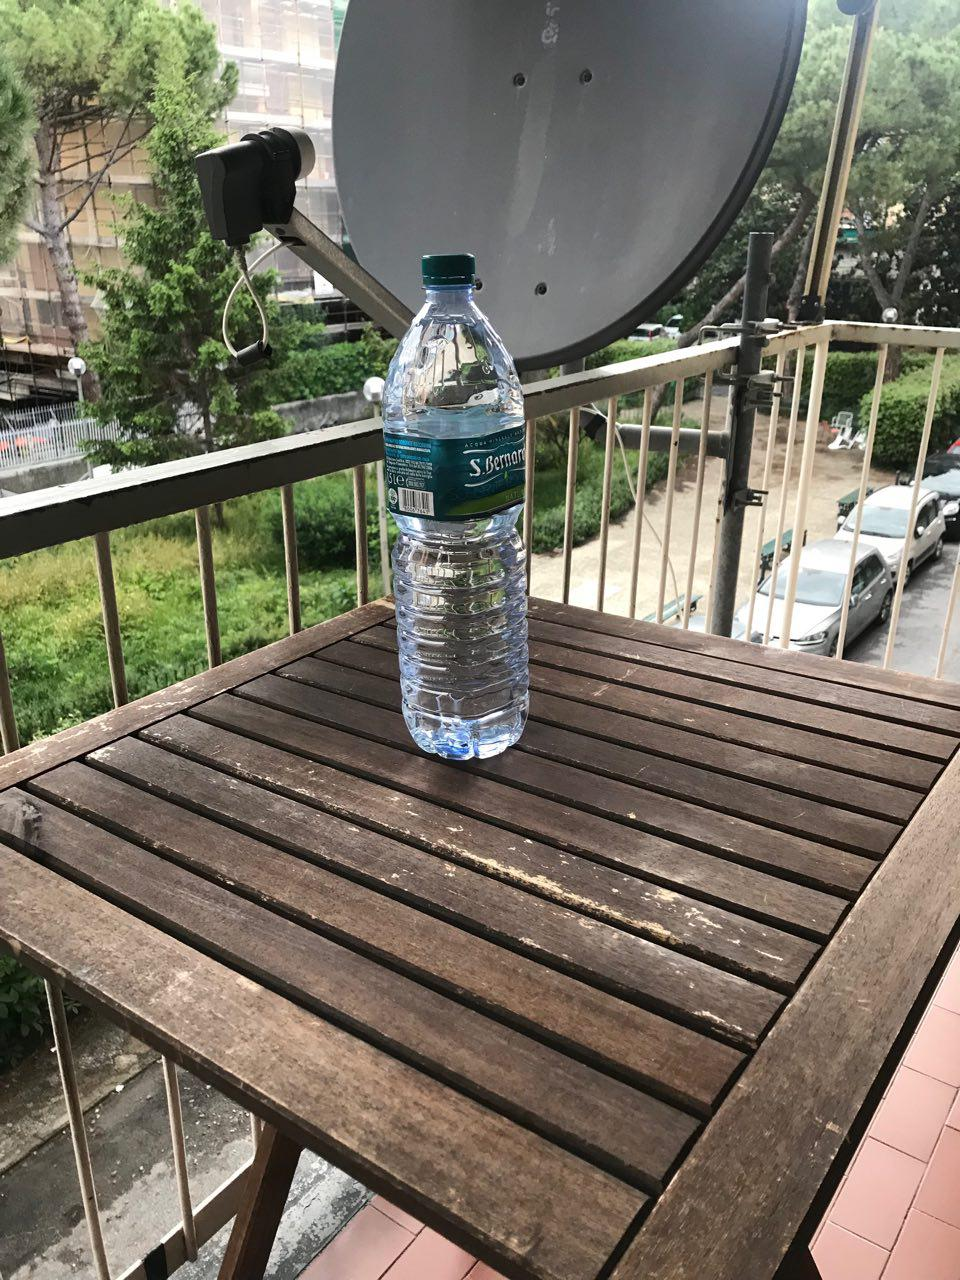san_bernardo: (380, 251, 530, 762)
